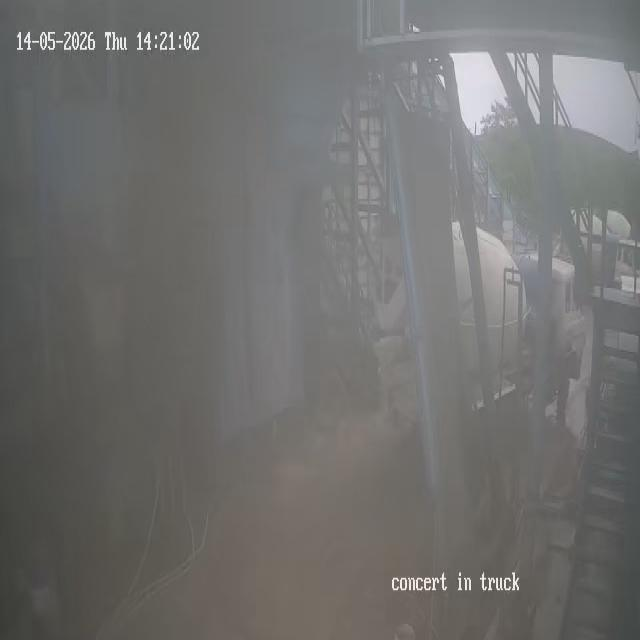cement_mixer_truck: (376, 214, 586, 446)
